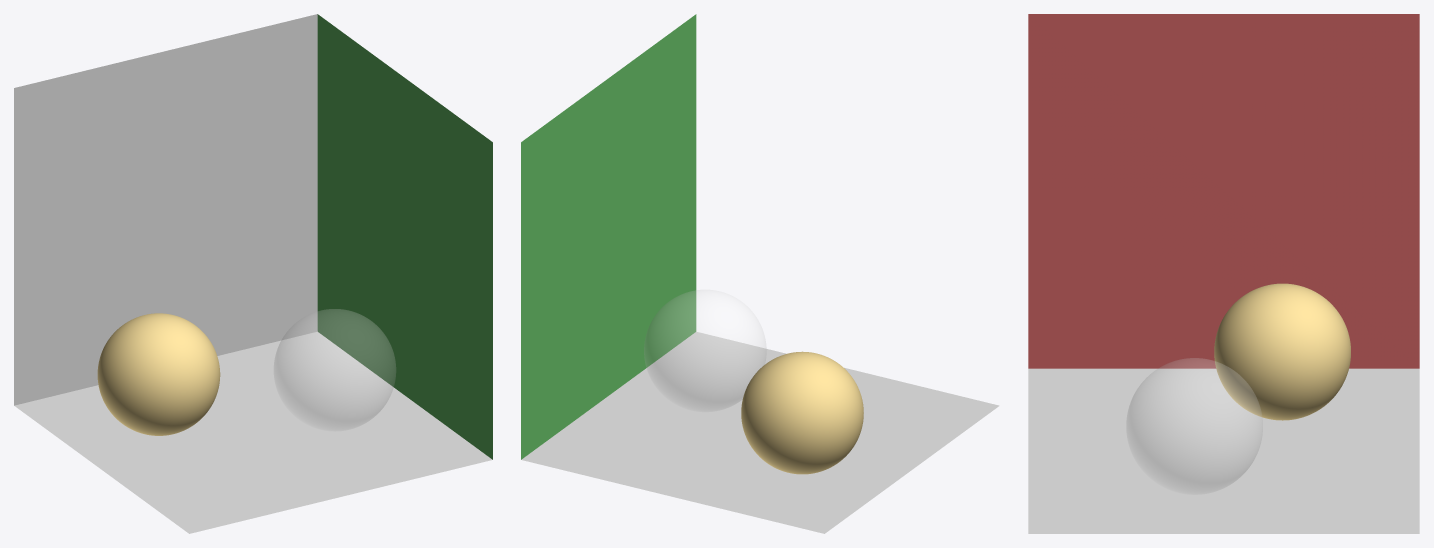
Rendered from cornell_box.gltf.
The picture shows the model from 3 angles, left to right: view 1: azimuth 30°, elevation 25°; view 2: azimuth 150°, elevation 25°; view 3: azimuth 270°, elevation 25°; orthographic projection. The views are drawn at different scales.
Bounding box in the file's own units: 4 × 4 × 4.
